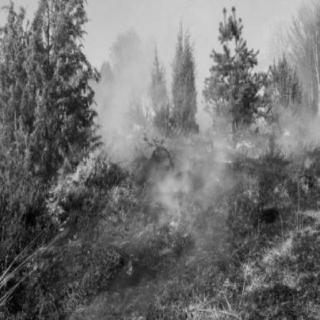Fire: (27, 131, 142, 280), (223, 118, 309, 162)
